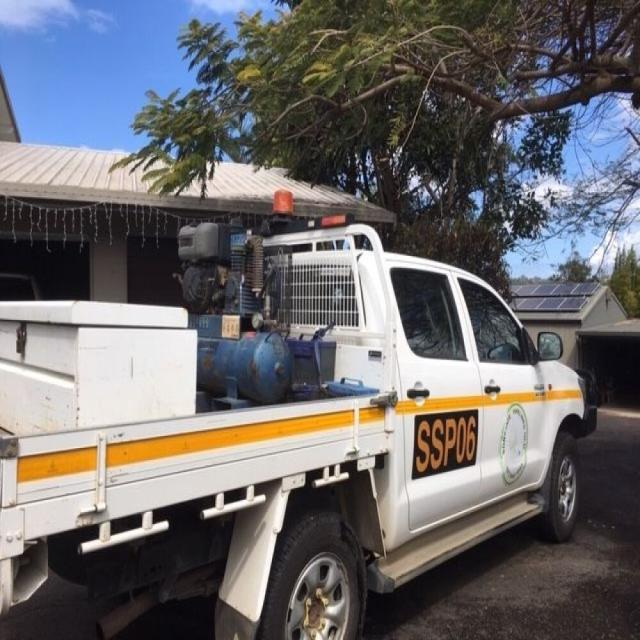light_vehicle: (4, 197, 598, 639)
